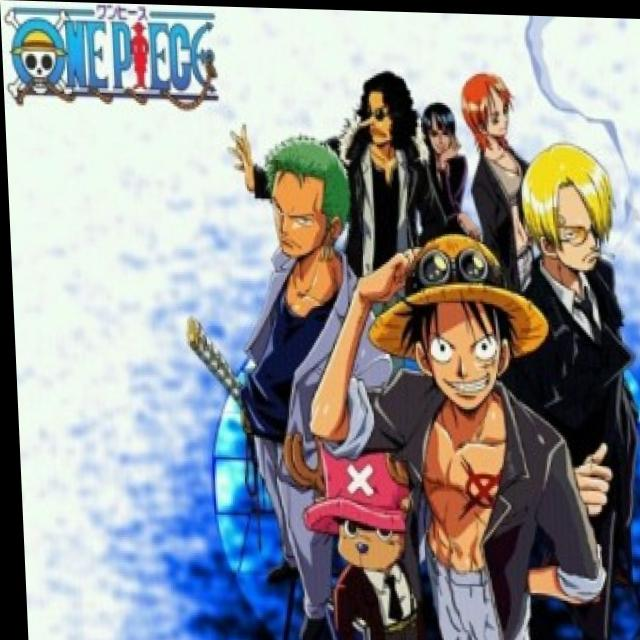Chyopa: (287, 434, 428, 579)
Luffy: (354, 225, 545, 415)
Nami: (461, 61, 523, 148)
NicoRobin: (416, 89, 463, 168)
Sangdi: (513, 140, 622, 277)
Usopp: (341, 65, 414, 153)
Zoro: (248, 123, 355, 273)
